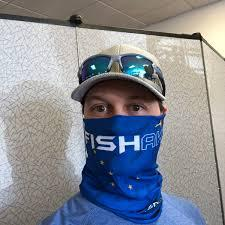cap: (70, 41, 171, 101)
scarf-kerchief: (79, 108, 172, 225)
sunglasses: (78, 53, 158, 81)
